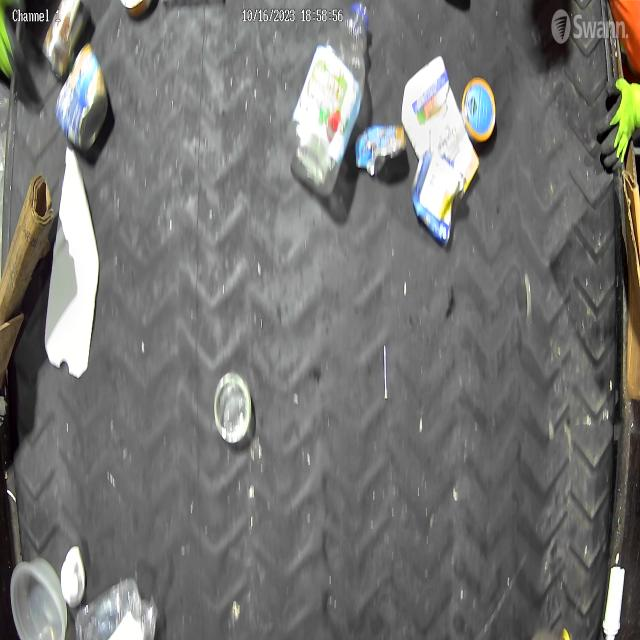can: (54, 43, 110, 148), (412, 150, 466, 246), (41, 0, 92, 80), (213, 370, 252, 442), (354, 122, 406, 176), (119, 0, 153, 19)
milk_jug: (402, 56, 479, 202)
plastic_bottle: (286, 0, 370, 198)
